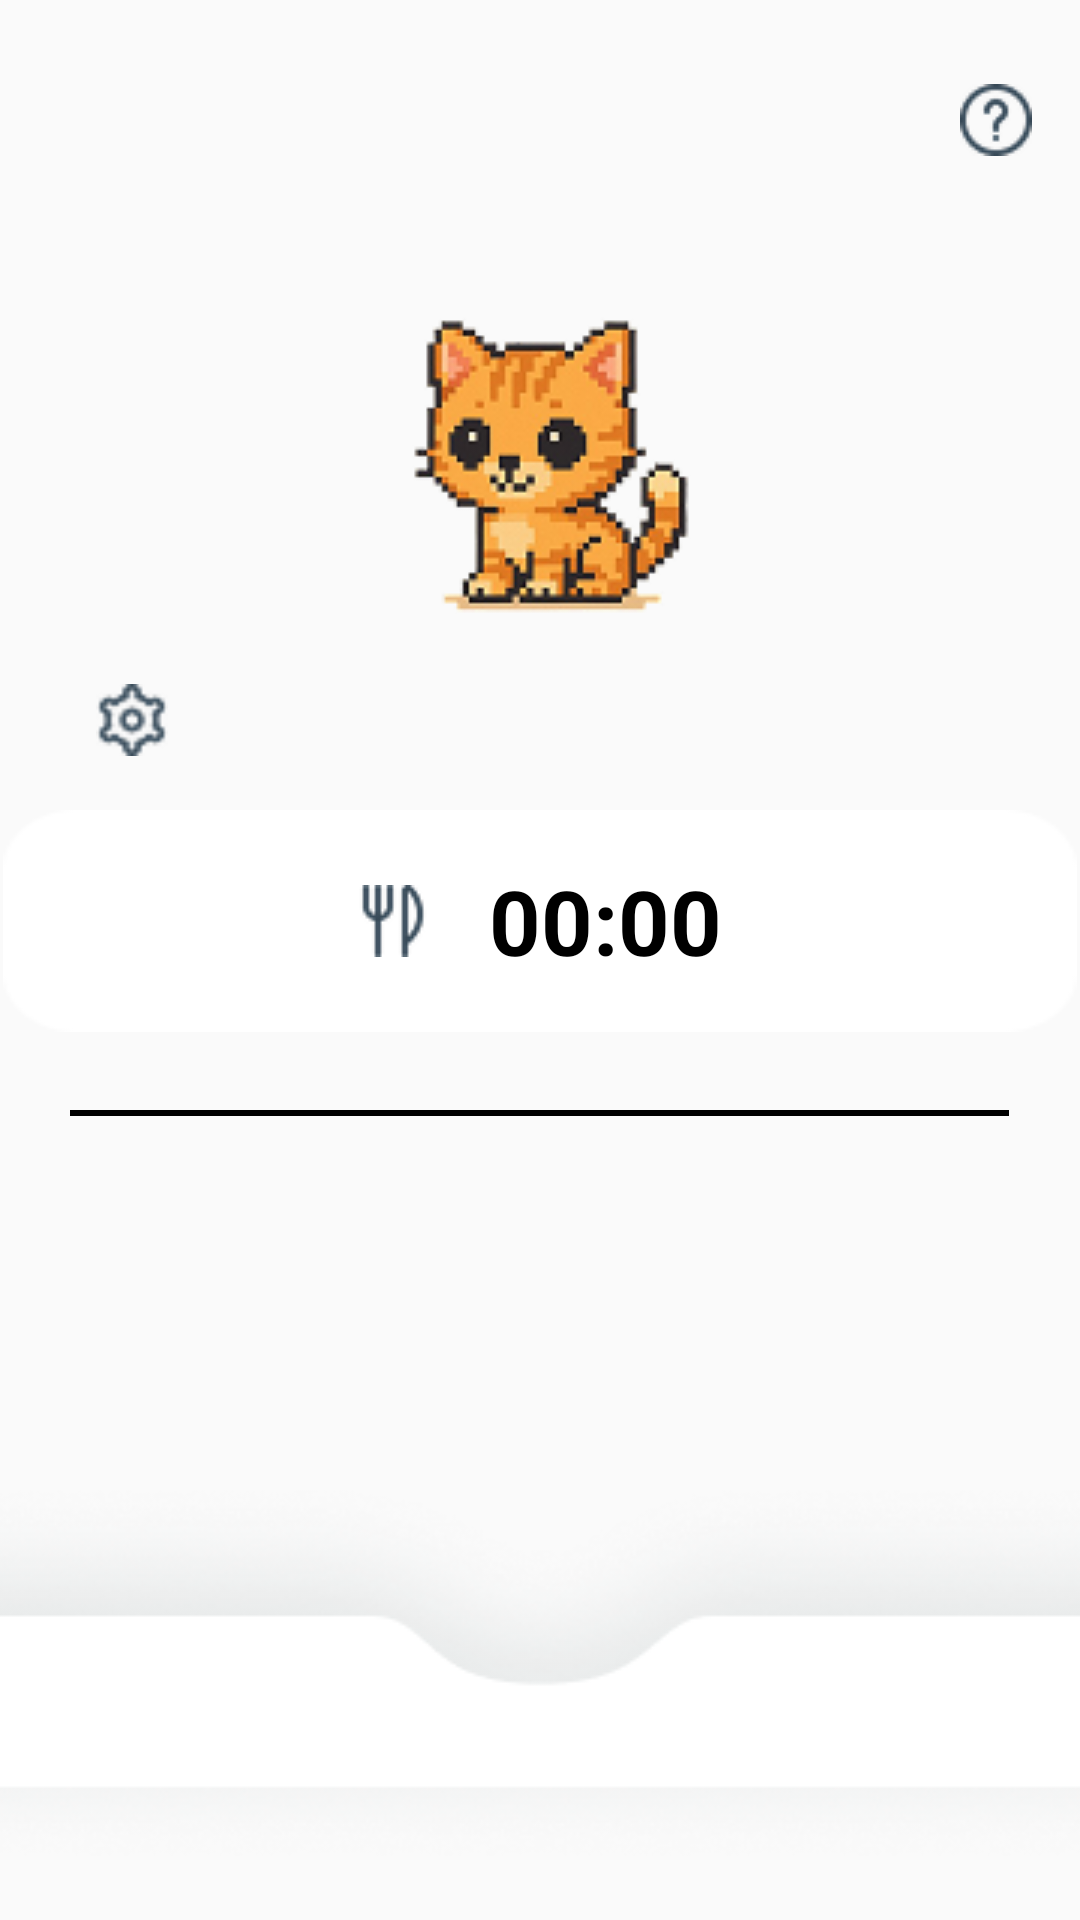

Locate icon controls on the screen. Image size 1080px×1920px, boxes as {"left": x1, "top": y1, "right": x2, "bottom": y2}.
advice: {"left": 960, "top": 84, "right": 1032, "bottom": 156}
cat: {"left": 414, "top": 320, "right": 689, "bottom": 611}
fork: {"left": 362, "top": 885, "right": 424, "bottom": 957}
settings: {"left": 98, "top": 684, "right": 166, "bottom": 756}
